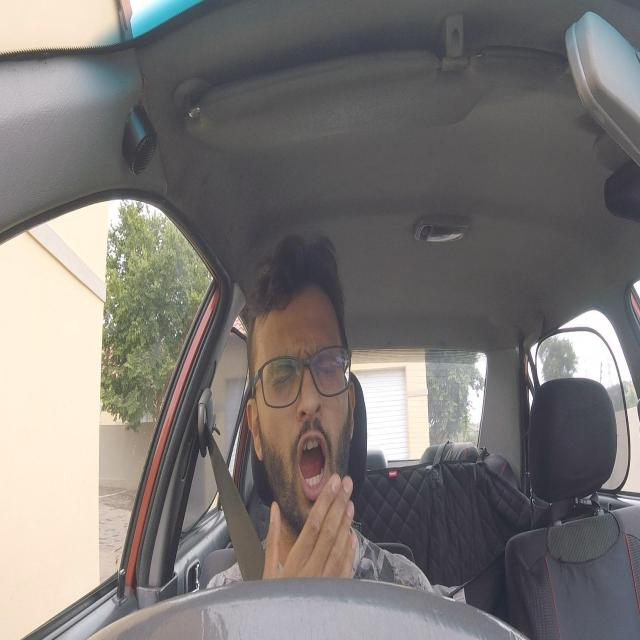close: (265, 353, 302, 403), (309, 346, 346, 393)
